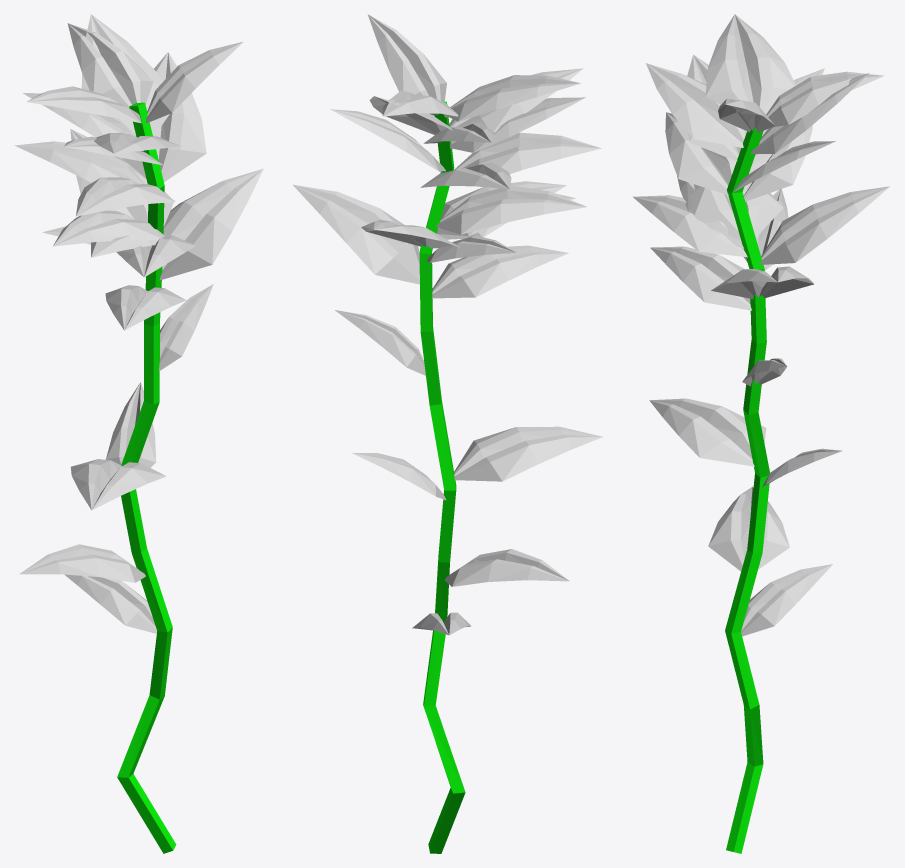
Rendered from grasBig_10.fbx.
3 views of the same model, side by side, from view 1: azimuth 30°, elevation 25°; view 2: azimuth 150°, elevation 25°; view 3: azimuth 270°, elevation 25° (orthographic). The views are drawn at different scales.
Visible parts, largest first — view 1: quickmaterial1; view 2: quickmaterial1; view 3: quickmaterial1.
Boxes of the visible parts, x1,y1,x2,y2 form: quickmaterial1: (14,14,263,853); quickmaterial1: (293,14,602,853); quickmaterial1: (632,14,889,853).
Bounding box in the file's own units: 0.3675 × 1.08 × 0.3217.
